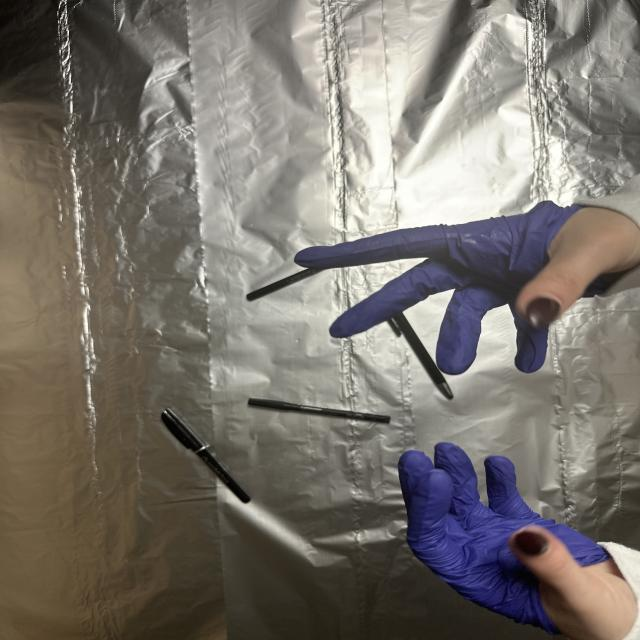glove_partial: (292, 197, 640, 375), (394, 441, 640, 639)
